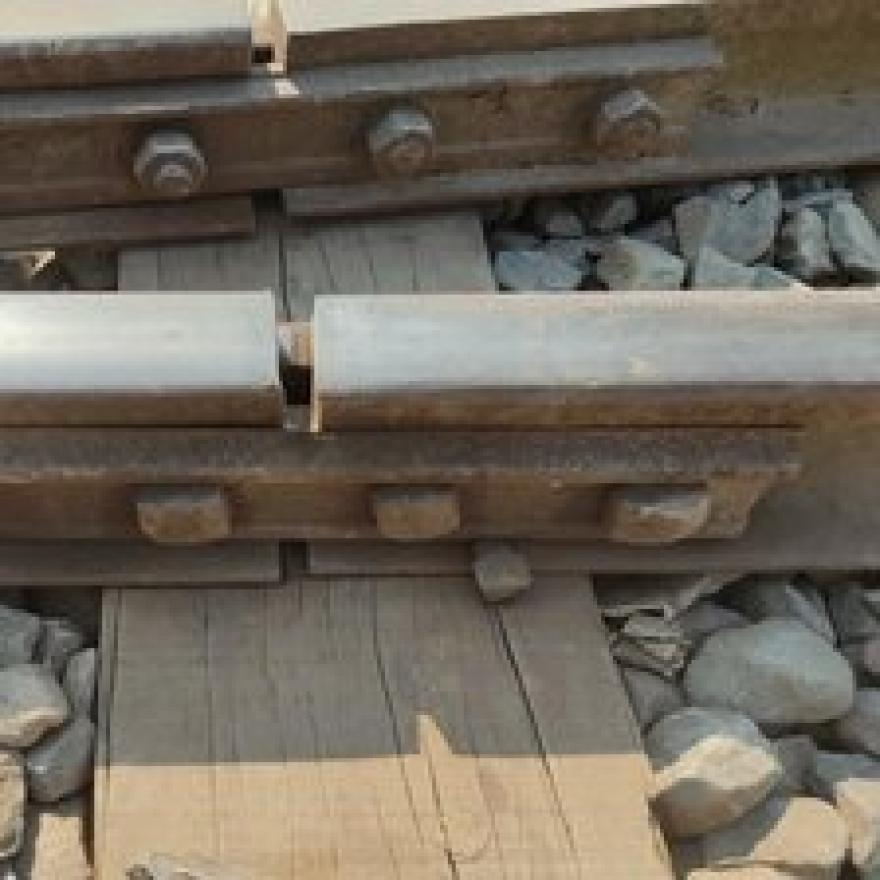railway-gap: (212, 294, 391, 441), (195, 0, 332, 111), (232, 511, 357, 614), (216, 177, 328, 252)
